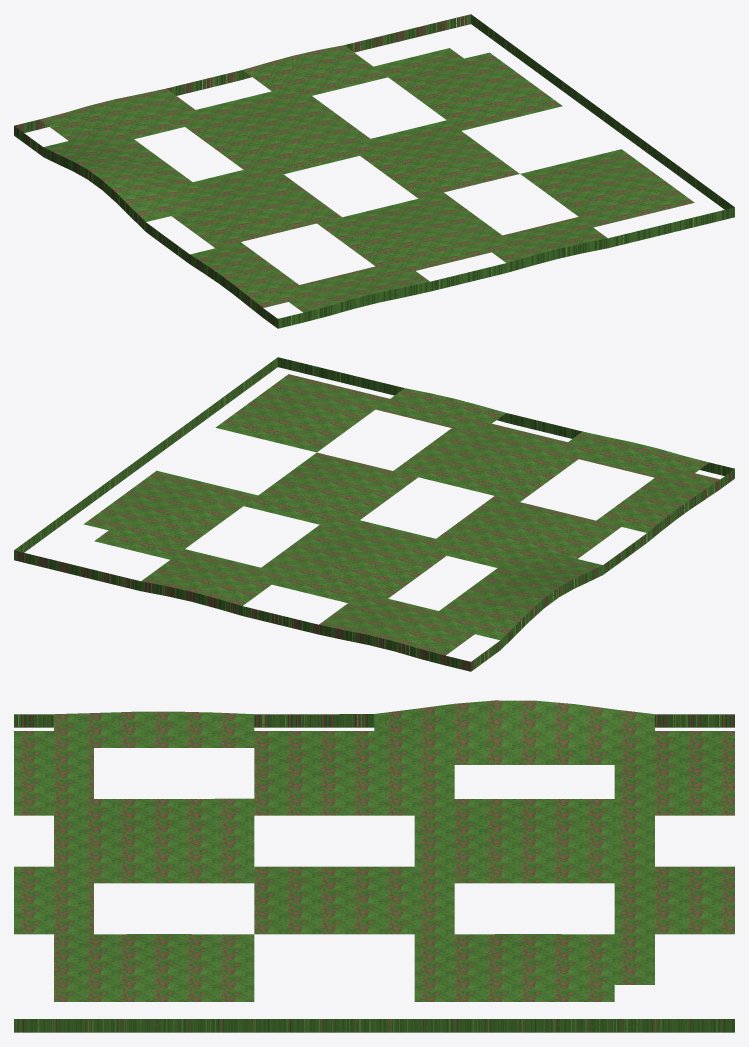
The model's file is rv_terrain_13.gltf.
3 renders of one model, top to bottom at view 1: azimuth 30°, elevation 25°; view 2: azimuth 150°, elevation 25°; view 3: azimuth 270°, elevation 25°, orthographic. The views are drawn at different scales.
Visible parts, largest first — view 1: RV_Terrain_13; view 2: RV_Terrain_13; view 3: RV_Terrain_13.
Part boxes in pixels (x1,y1,x2,y2): RV_Terrain_13: [14, 14, 734, 328]; RV_Terrain_13: [14, 357, 734, 671]; RV_Terrain_13: [14, 700, 734, 1032].
Bounding box in the file's own units: 72 × 3.01 × 72.
2 materials, 1 textured.
